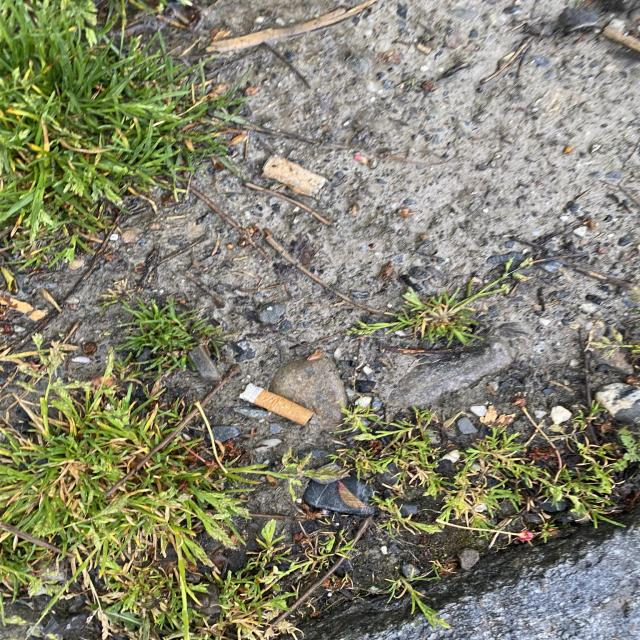other waste: (238, 382, 314, 426), (260, 152, 328, 197)
